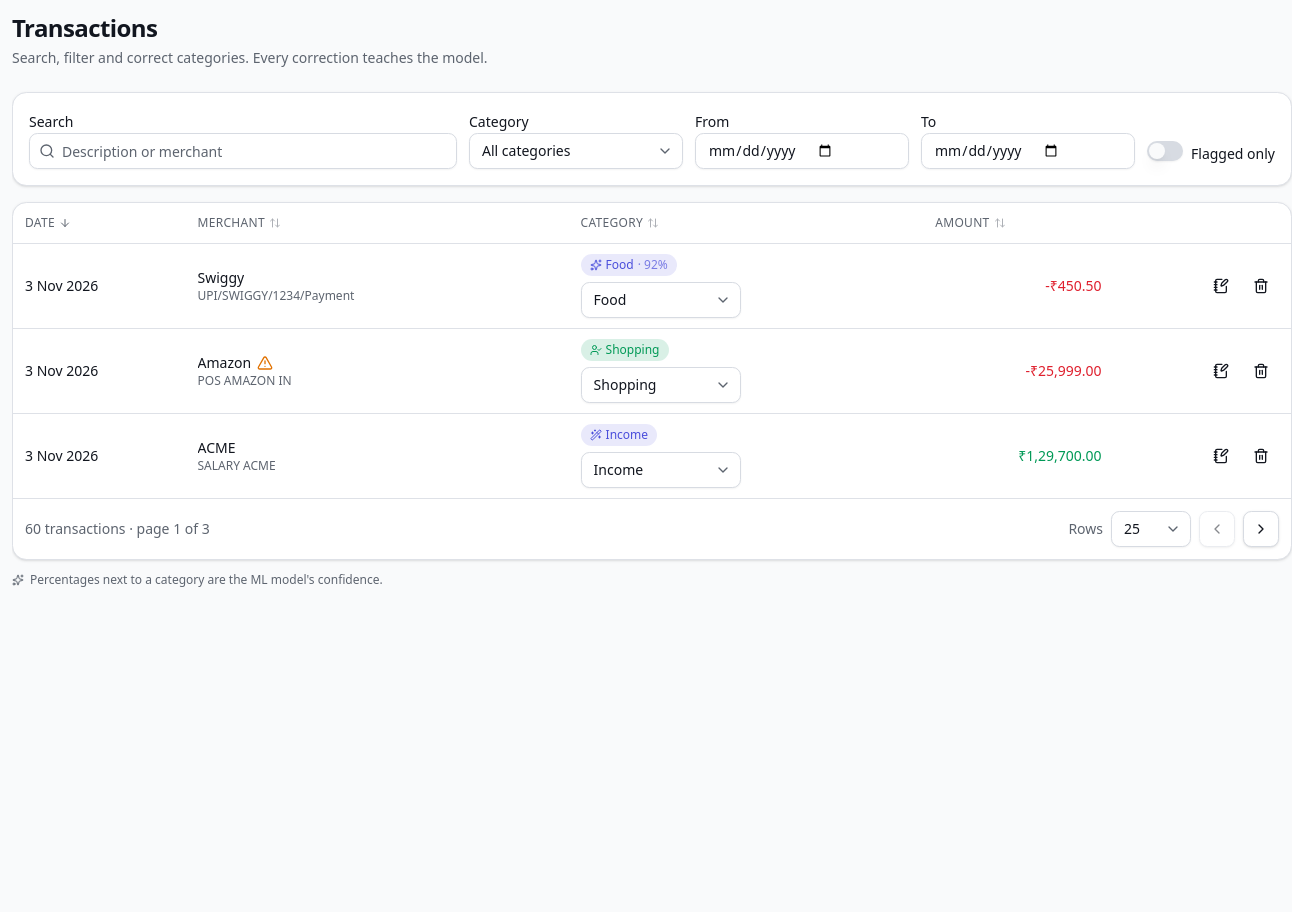
Test: <TransactionsPage> › rolls back when the update fails
Select "Rent" in the dropdown named "Category for Swiggy": point(661, 300) [581, 282, 741, 318]
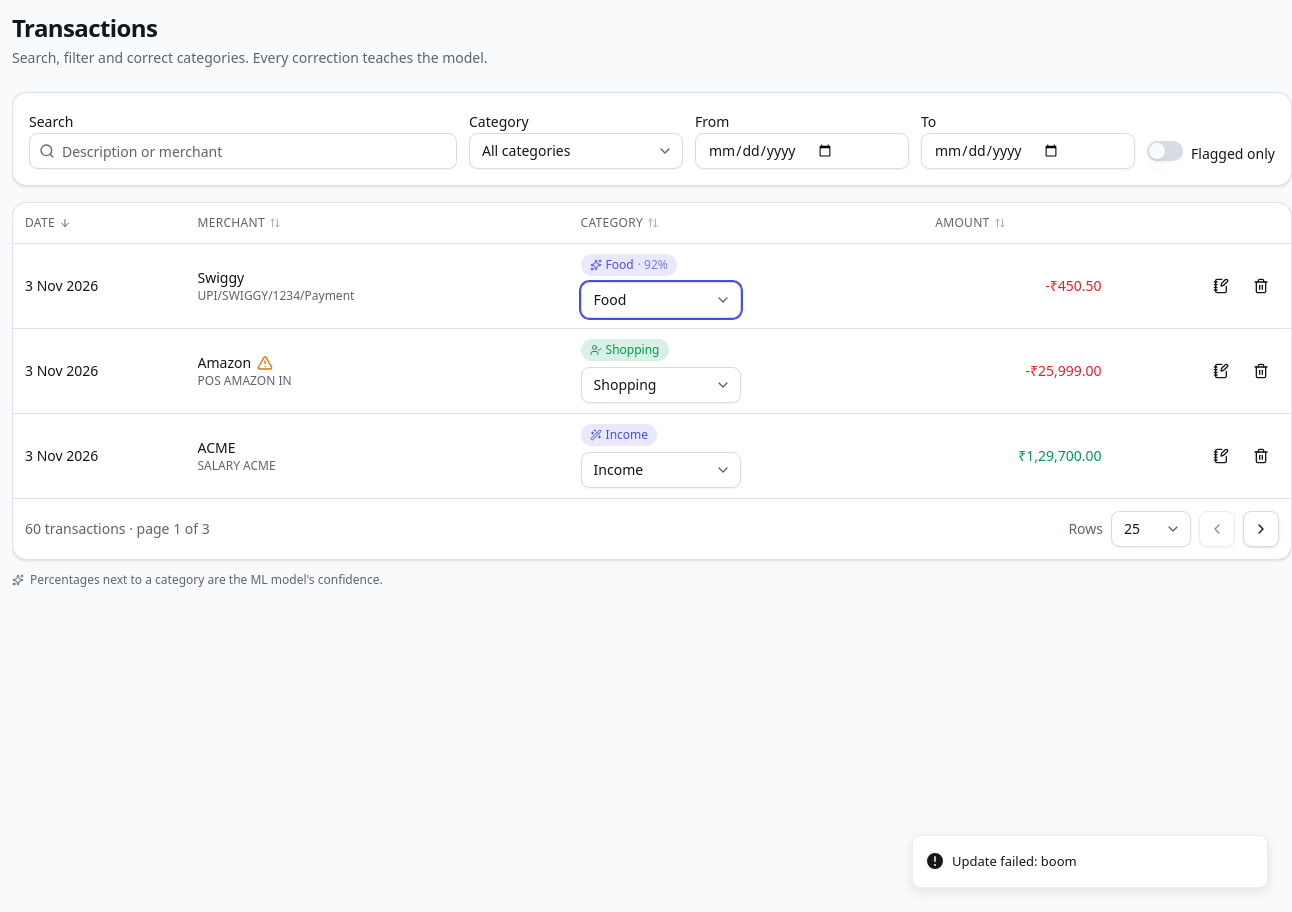
Expected: the element with test id "category-badge" shows "Food", [606, 256, 634, 272]
Now the text "Update failed: boom" is shown, box [952, 852, 1077, 871]
